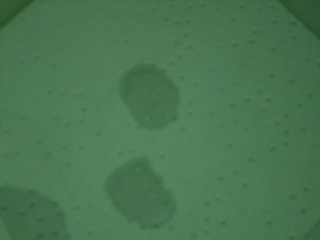Water_detected: (123, 67, 176, 124), (116, 167, 163, 216), (23, 196, 61, 235)
